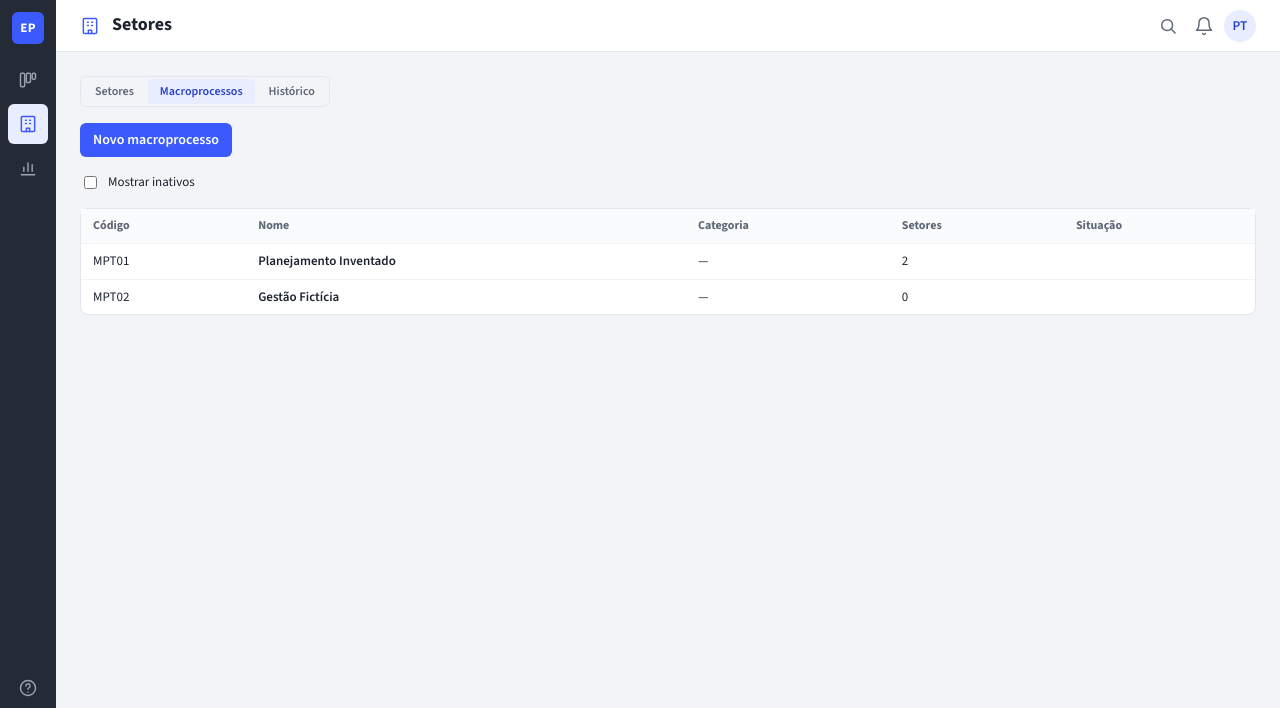
Scenario: tirar grava na hora, sem janela: a linha some e o setor volta ao seletor
Click the cell "Planejamento Inventado": [466, 262] box left=246, top=244, right=686, bottom=280
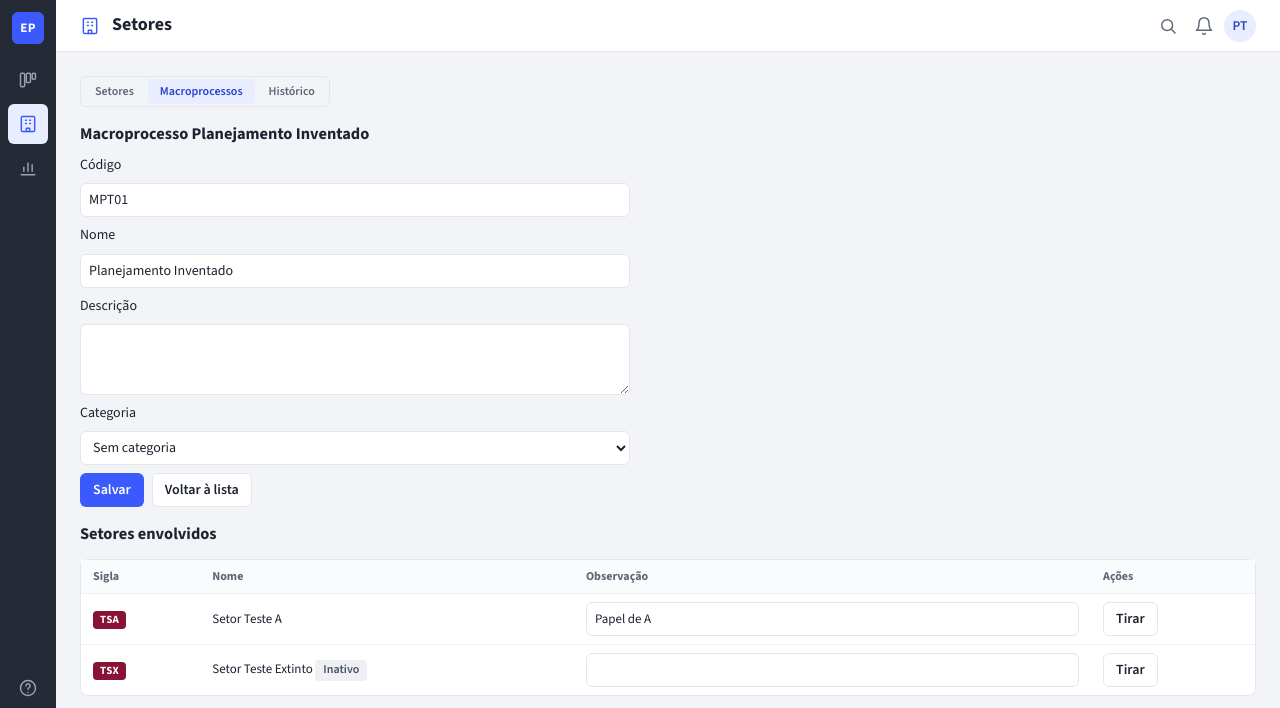
Click the button with aria-label "Tirar TSA": [1130, 619] box left=1103, top=602, right=1158, bottom=636
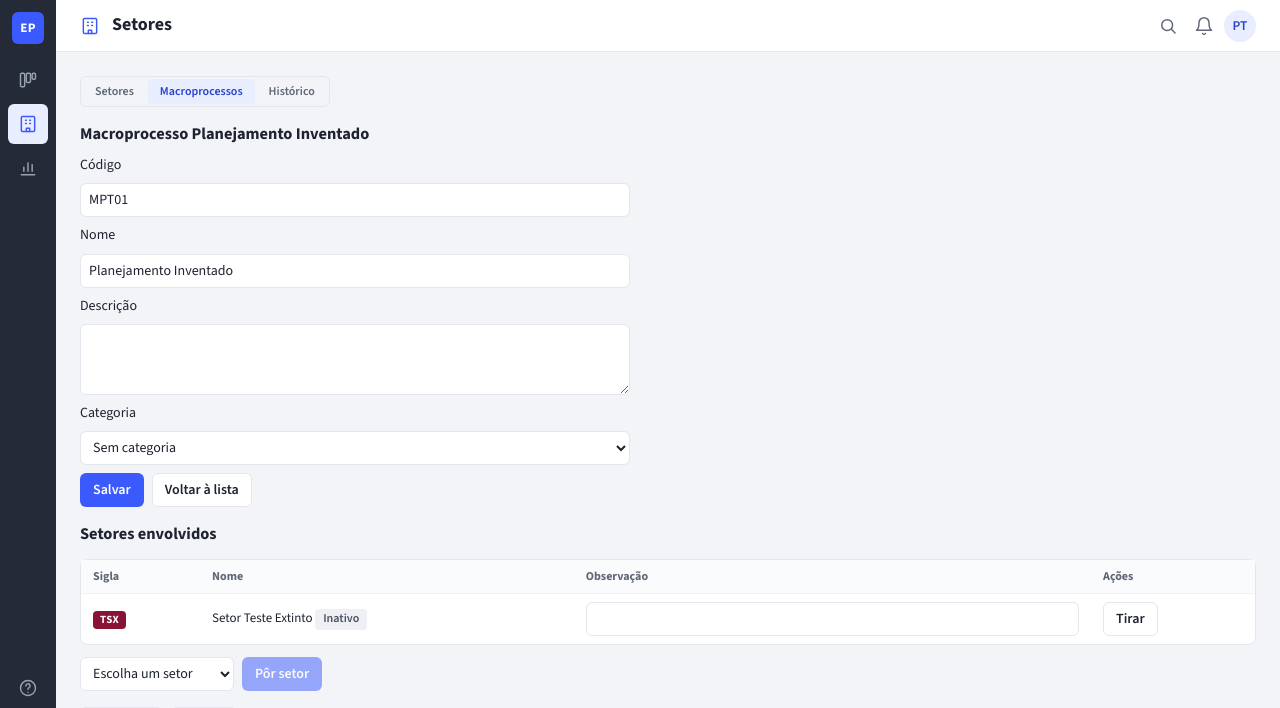
Expected: the text "TSA" is gone
